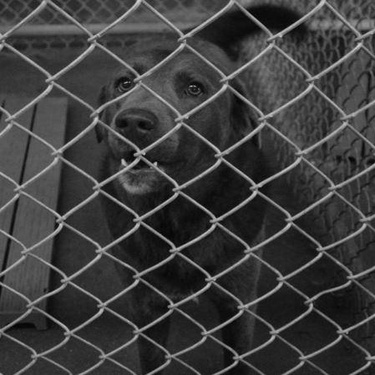dog: (90, 1, 311, 372)
